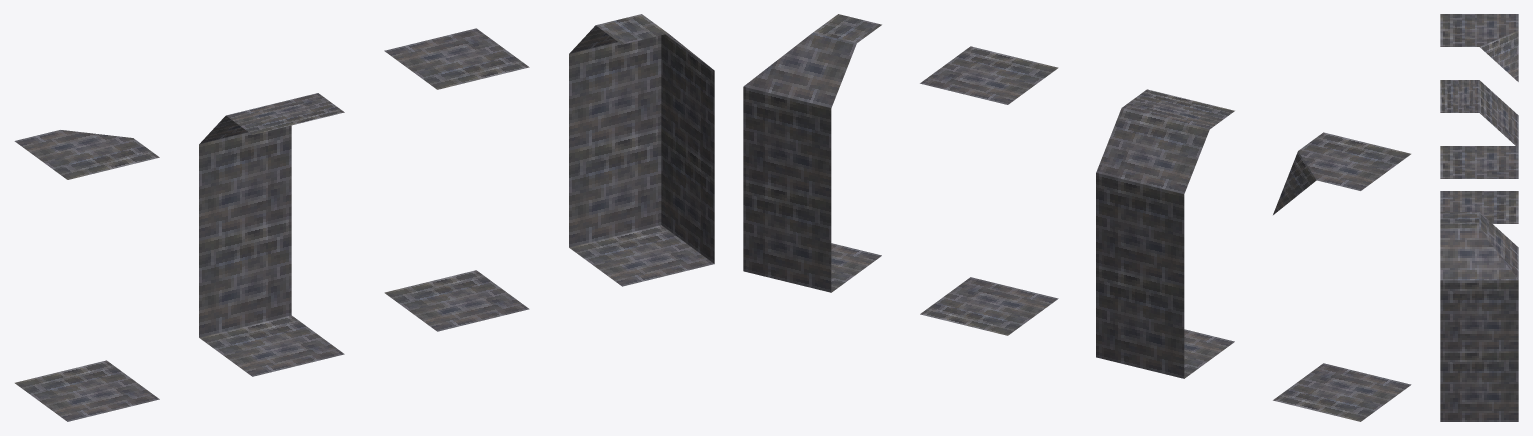
The model's file is ImportedMazeV2.glb.
3 renders of one model, left to right at view 1: azimuth 30°, elevation 25°; view 2: azimuth 150°, elevation 25°; view 3: azimuth 270°, elevation 25°, orthographic. The views are drawn at different scales.
Visible parts, largest first — view 1: corner_in-col, wall-col, floor-col, corner_out-col; view 2: wall-col, corner_in-col, corner_out-col, floor-col; view 3: corner_in-col, corner_out-col, wall-col, floor-col.
Part boxes in pixels (bbox=[...]): corner_in-col: bbox=[569, 14, 714, 286]; wall-col: bbox=[199, 93, 344, 376]; floor-col: bbox=[384, 28, 529, 331]; corner_out-col: bbox=[14, 130, 159, 421]; wall-col: bbox=[1096, 89, 1234, 378]; corner_in-col: bbox=[743, 14, 881, 292]; corner_out-col: bbox=[1273, 132, 1411, 421]; floor-col: bbox=[920, 46, 1058, 335]; corner_in-col: bbox=[1440, 212, 1518, 421]; corner_out-col: bbox=[1440, 14, 1518, 223]; wall-col: bbox=[1440, 80, 1518, 145]; floor-col: bbox=[1440, 146, 1518, 178].
Bounding box in the file's own units: 7 × 2.5 × 1.
Materials: 1 (1 with a texture image).
